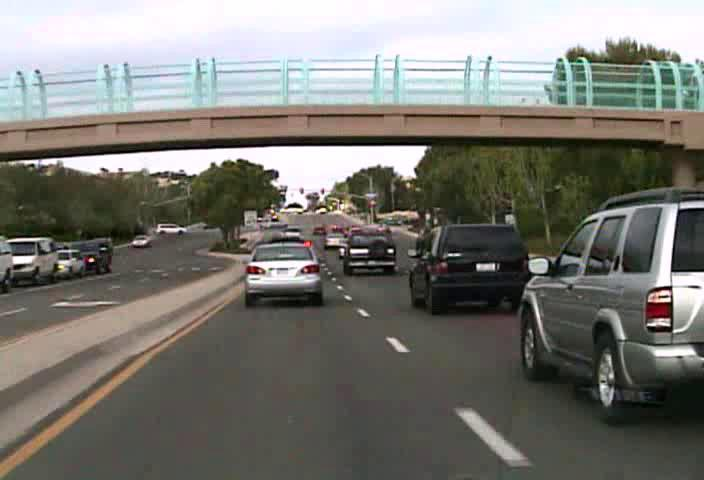speedLimitUrdbl: (243, 210, 257, 227)
